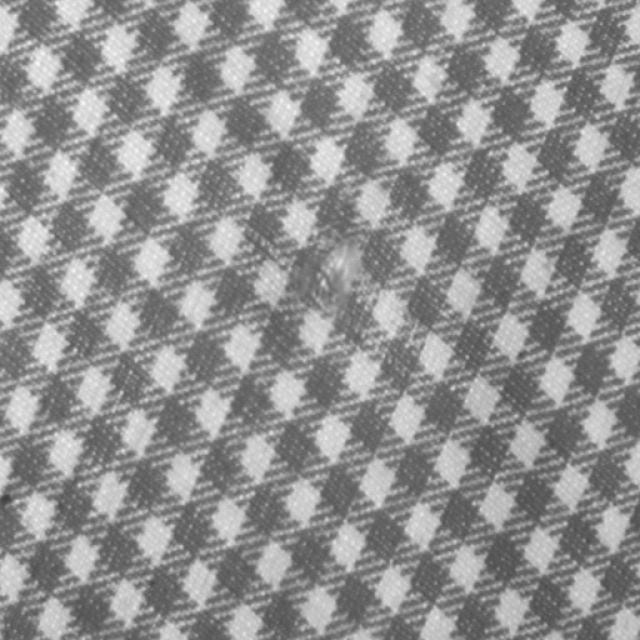Hole-Defect: (301, 241, 370, 315)
